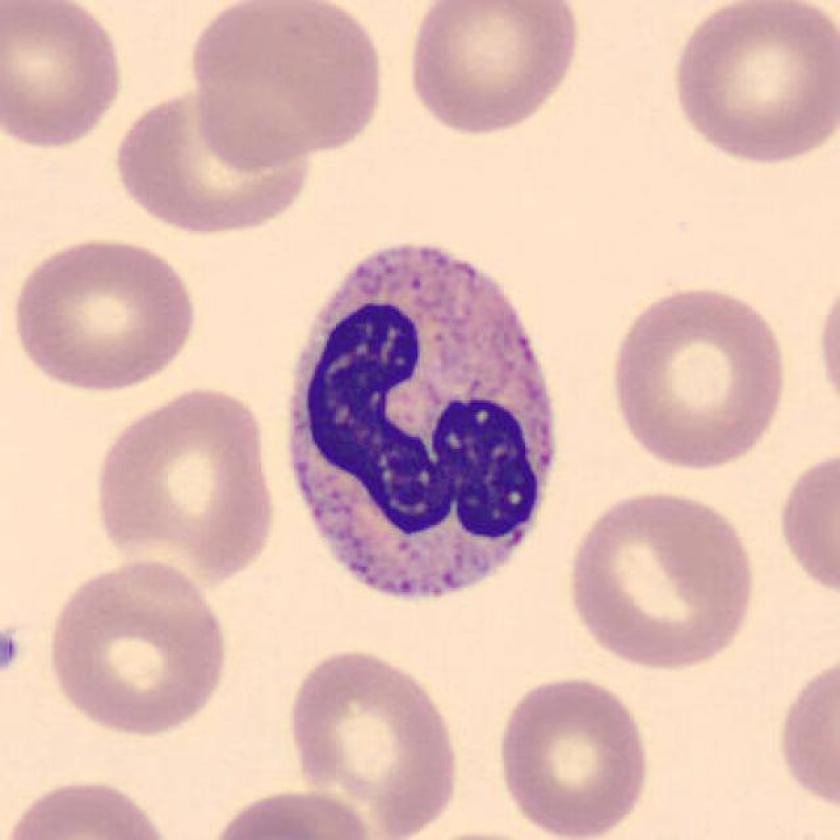neutrophil: (287, 252, 556, 598)
